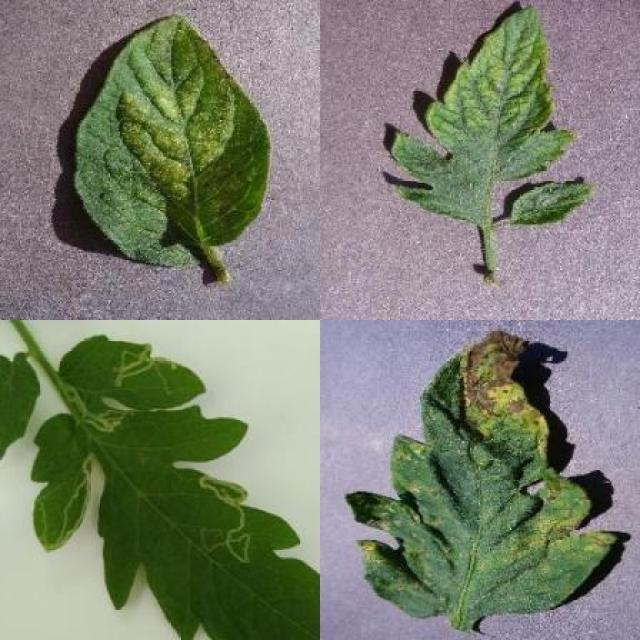Leaf Miner: (30, 331, 320, 640)
Mosaic Virus: (390, 3, 593, 226)
Septoria: (345, 332, 615, 618)
Spider Mites: (73, 13, 270, 270)
